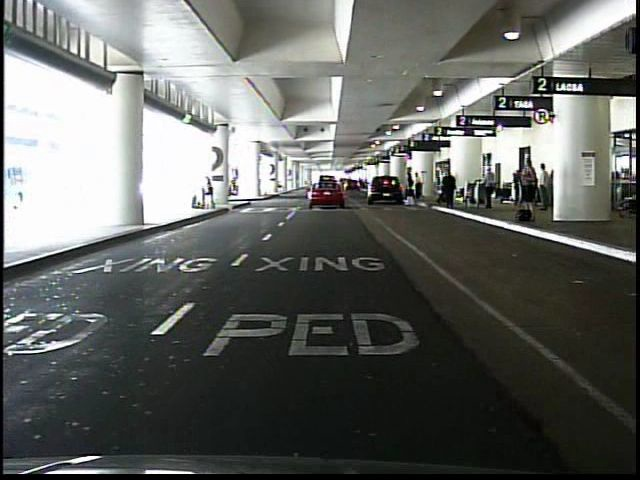person: (518, 156, 540, 210), (538, 162, 552, 212), (484, 165, 498, 210), (443, 169, 459, 208), (202, 173, 217, 211), (404, 169, 417, 205), (439, 166, 451, 204), (413, 171, 423, 199)
